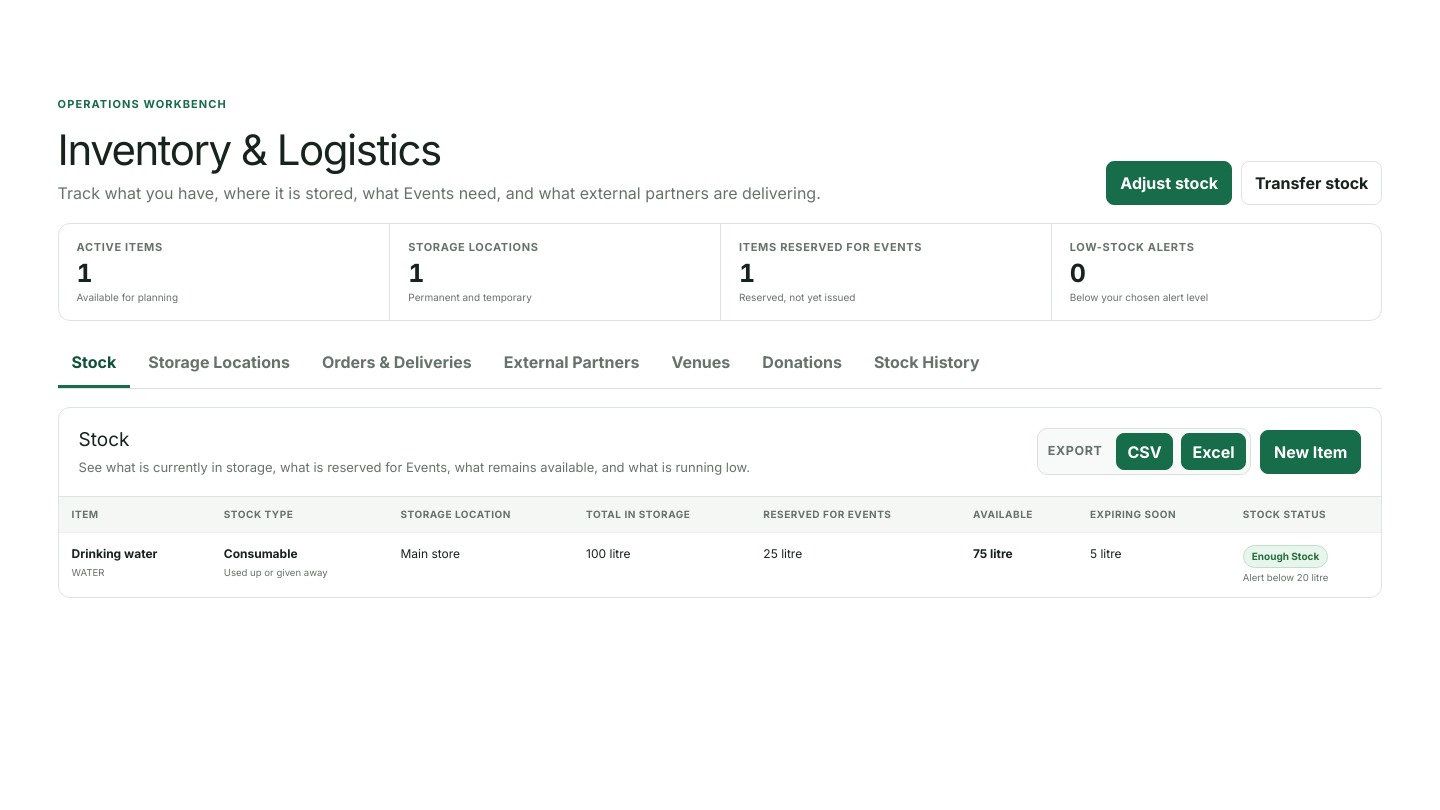
Inventory and Event Logistics › updates stock and closes the adjustment dialog after saving
Check: the text "Drinking water" is shown, box [72,546,158,561]
Click the button "Adjust stock" at [1169, 182], box [1106,160,1232,204]
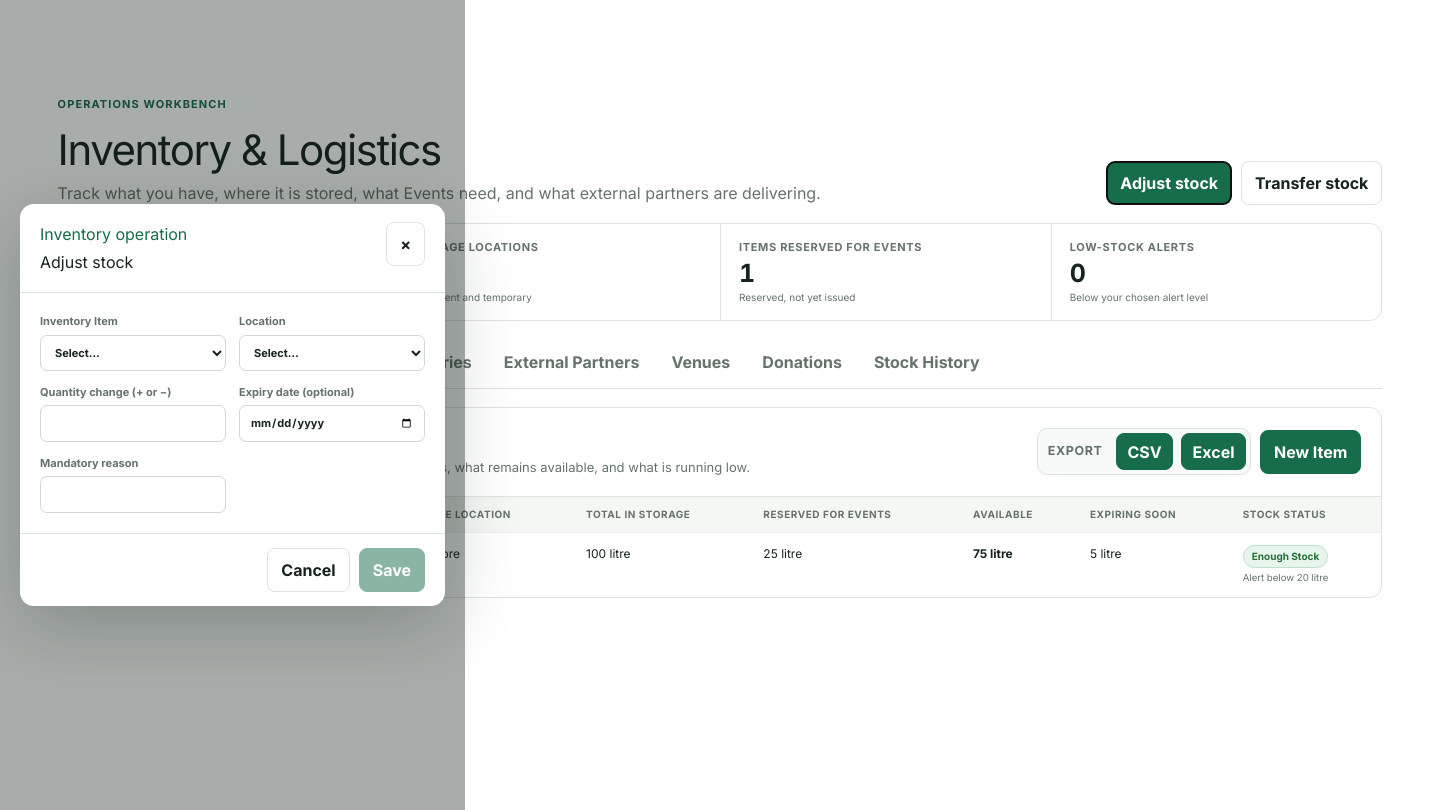
Select "Drinking water (litre)" in the dropdown labelled "Inventory Item" at [133, 353], box [40,335,226,371]
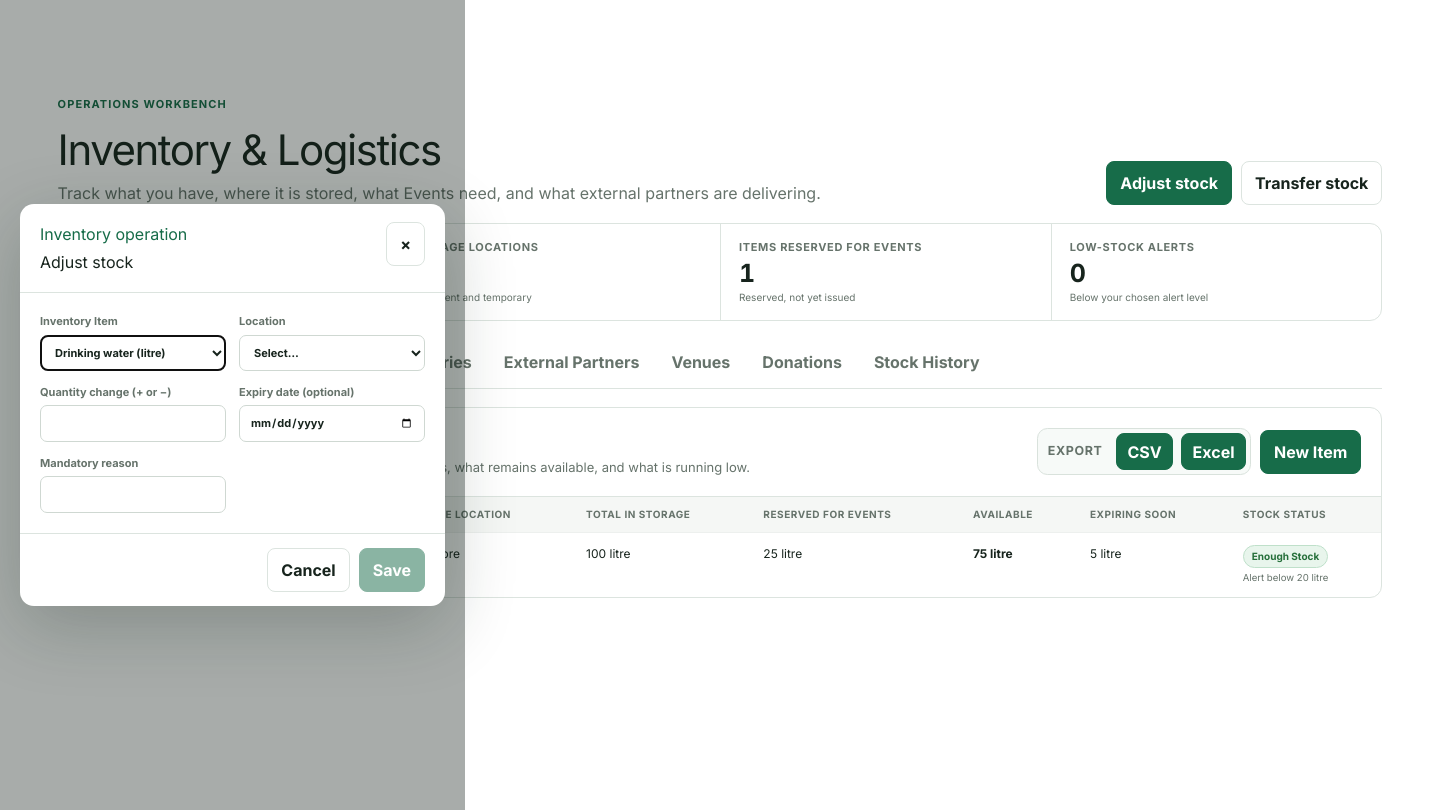
Select "Main store" in the dropdown labelled "Location" at [332, 353], box [239,335,425,371]
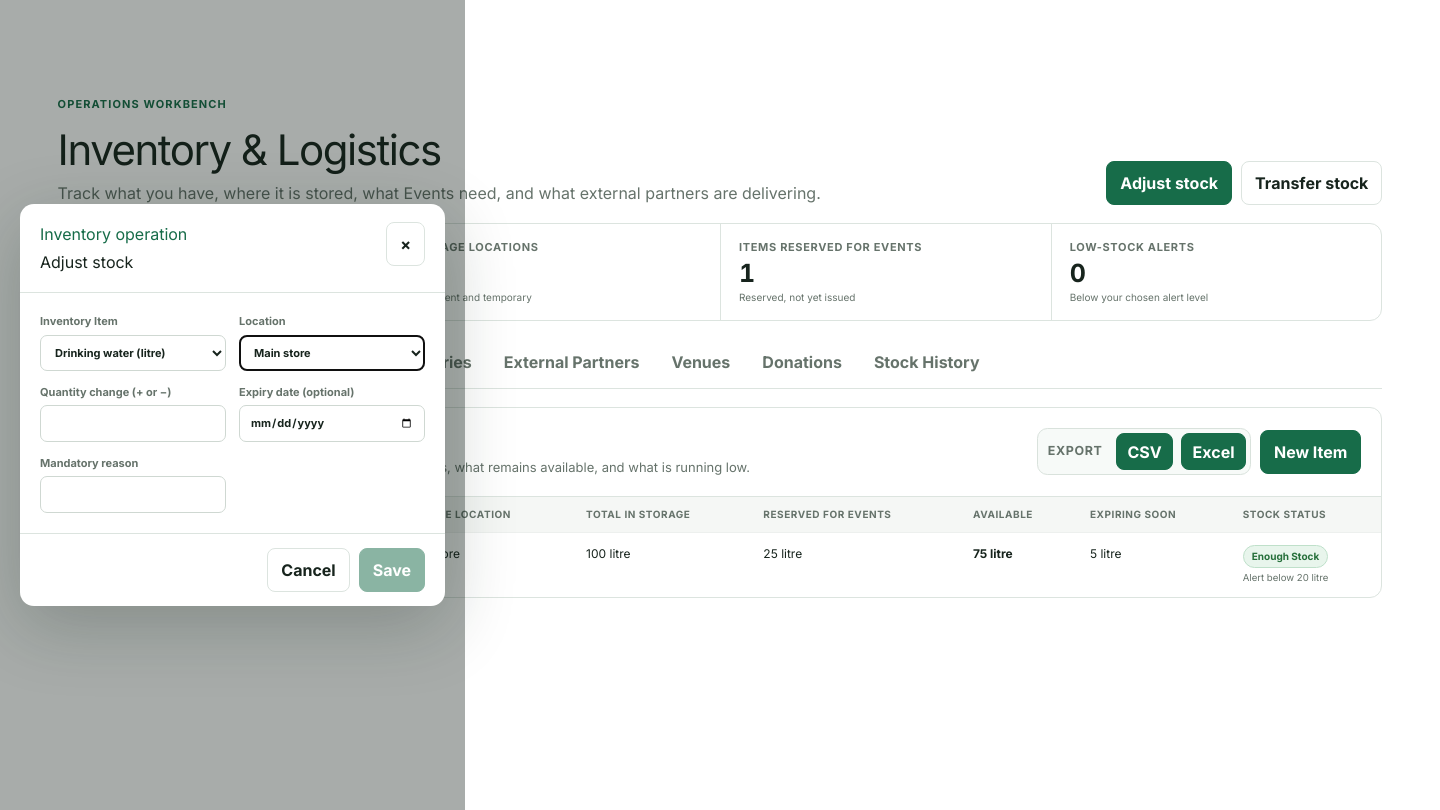
Type "10" into the number field labelled "Quantity change (+ or −)" at [133, 424], box [40,405,226,442]
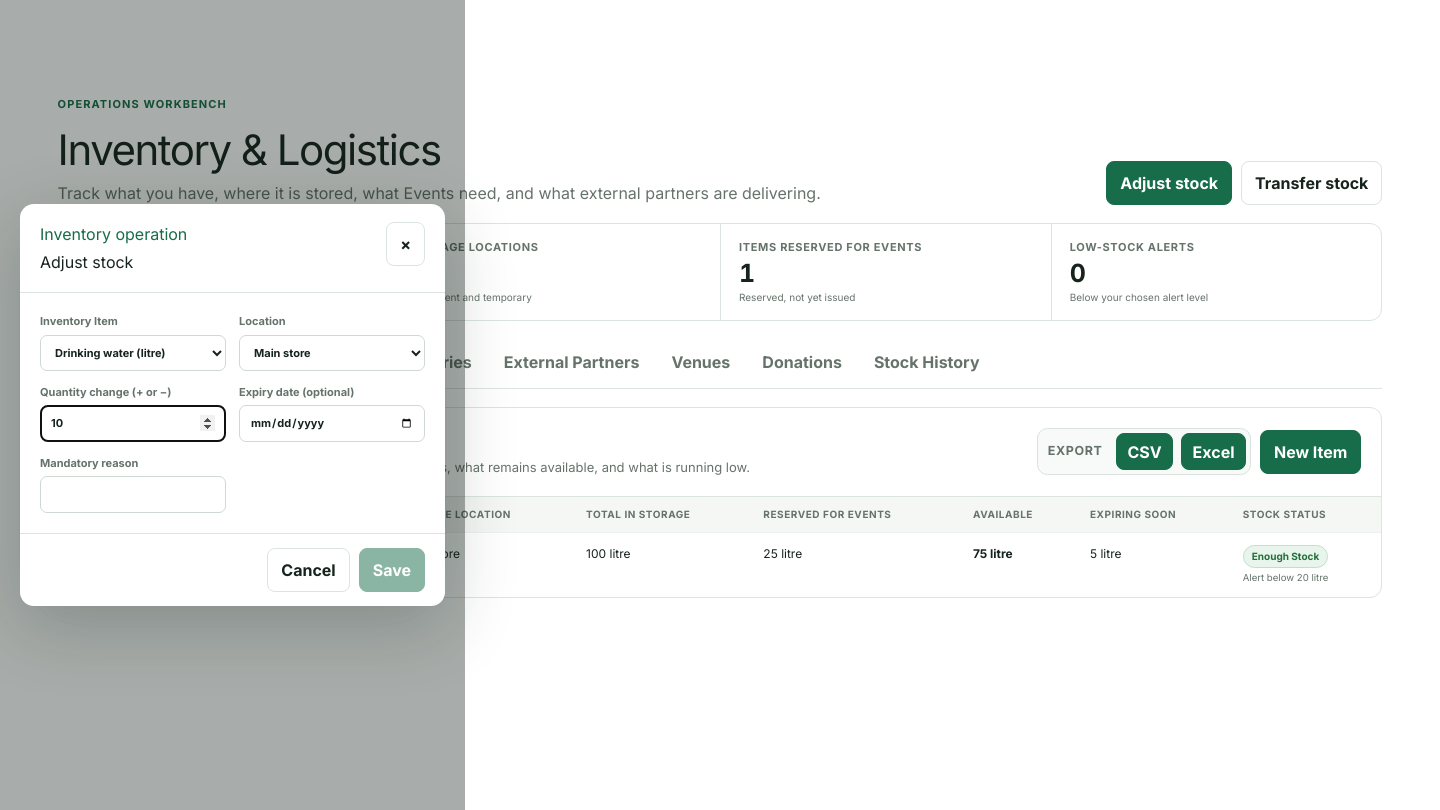
Check: the button "Save" is disabled, box [359,548,425,592]
Type "Received delivery" into the field labelled "Mandatory reason" at [133, 495], box [40,476,226,513]
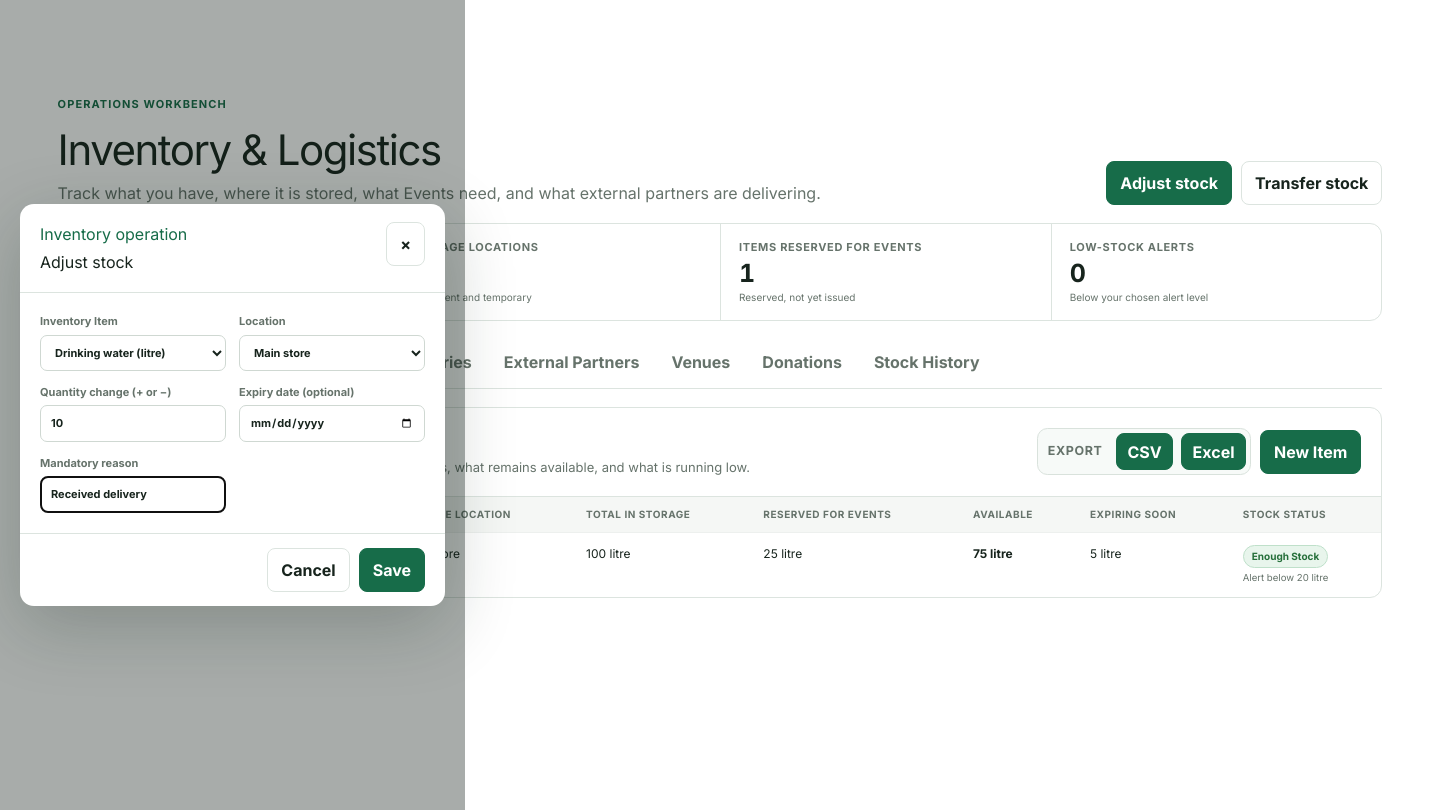
Click the button "Save" at [392, 570], box [359,548,425,592]
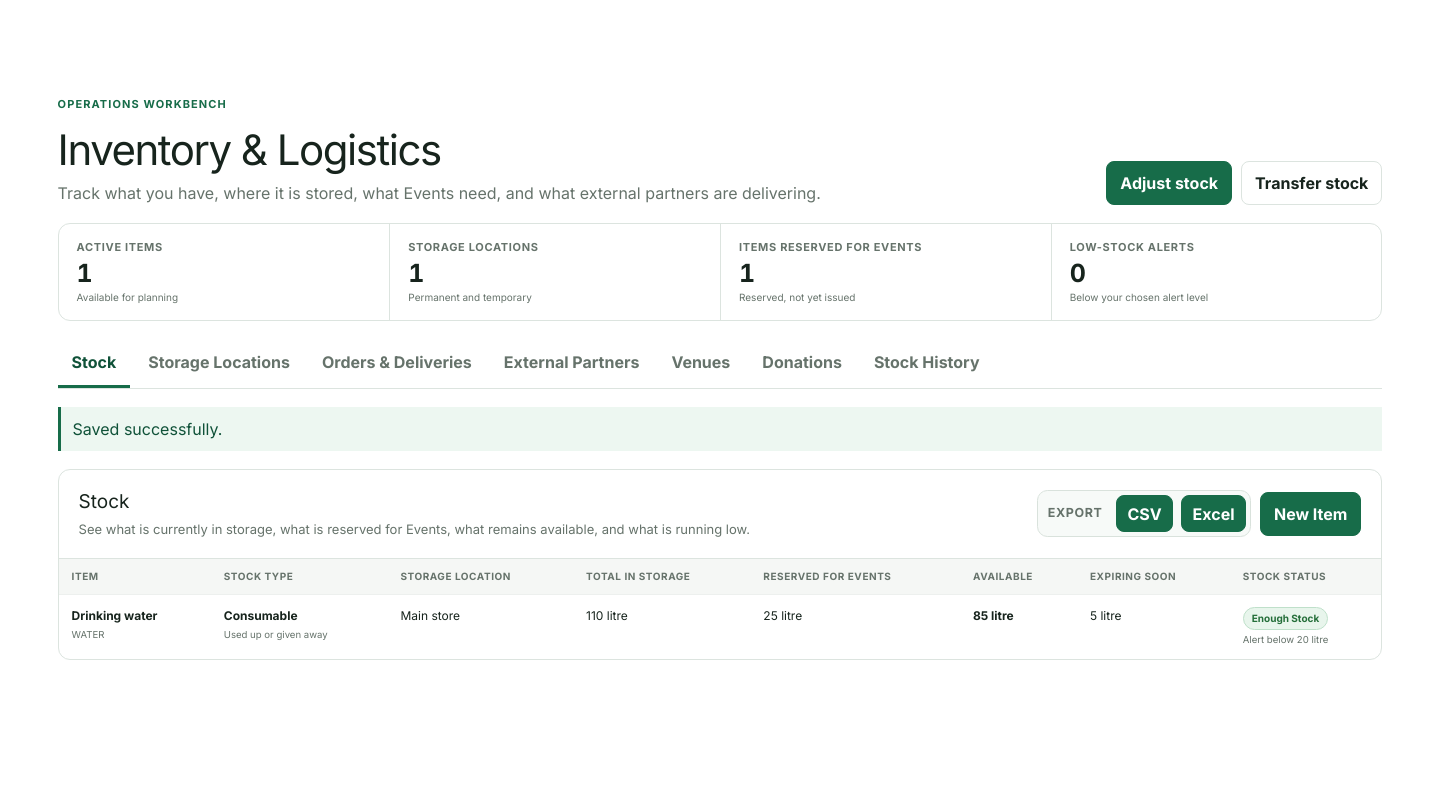
Check: the dialog is gone
Check: the text "110 litre" is shown, box [573,594,750,659]
